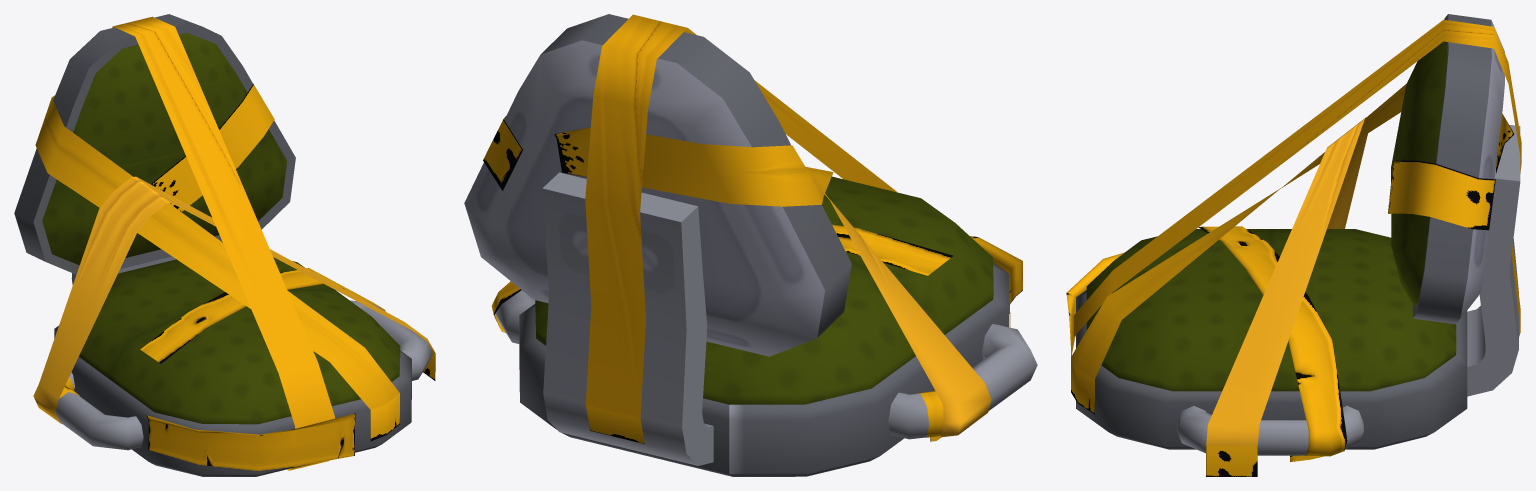
Rendered from obj_office_officechair_taped.fbx.
3 renders of one model, left to right at view 1: azimuth 30°, elevation 25°; view 2: azimuth 150°, elevation 25°; view 3: azimuth 270°, elevation 25°, orthographic. The views are drawn at different scales.
Parts seen in each view (by area): view 1: polySurface103; view 2: polySurface103; view 3: polySurface103.
Part boxes in pixels (left/top/right/bottom): polySurface103: left=14, top=14, right=435, bottom=476; polySurface103: left=464, top=14, right=1037, bottom=476; polySurface103: left=1066, top=14, right=1521, bottom=476.
Bounding box in the file's own units: 3.02 × 2.67 × 3.08.
Materials: 2 (2 with a texture image).
